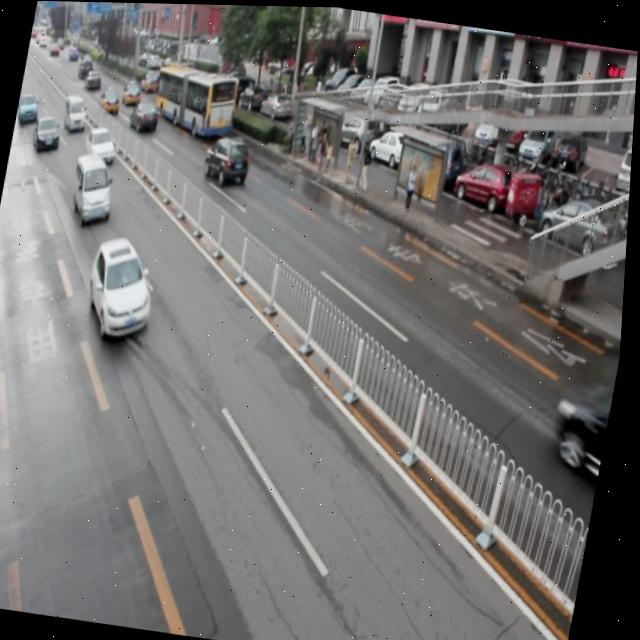car: (83, 232, 165, 341), (549, 380, 618, 485), (202, 134, 253, 188), (84, 124, 120, 165), (128, 101, 161, 134)
truck: (69, 152, 120, 226)
van: (150, 62, 243, 140)
